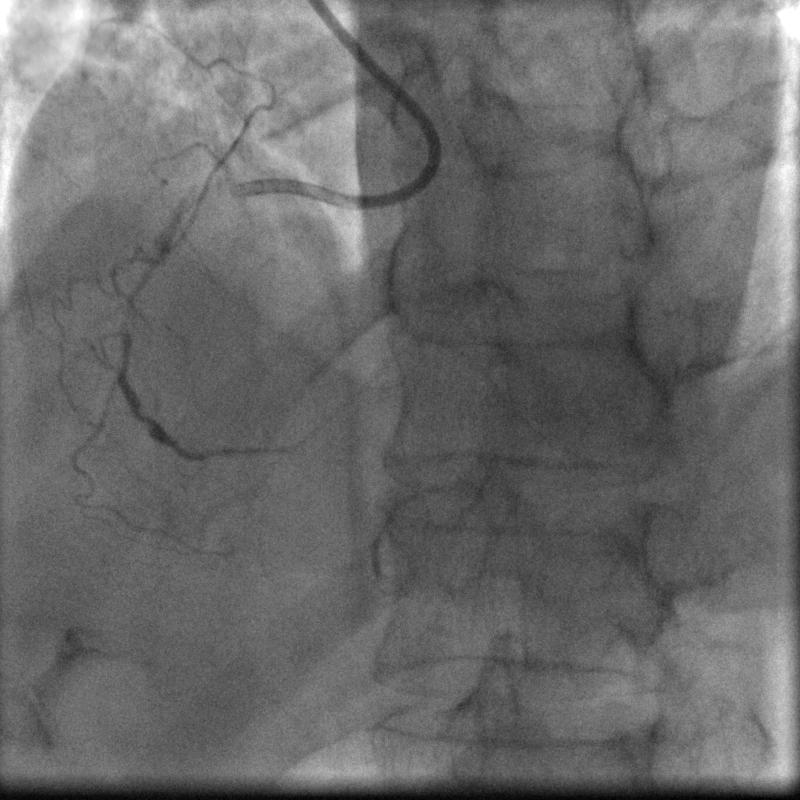Stenosis: (118, 257, 158, 336)
